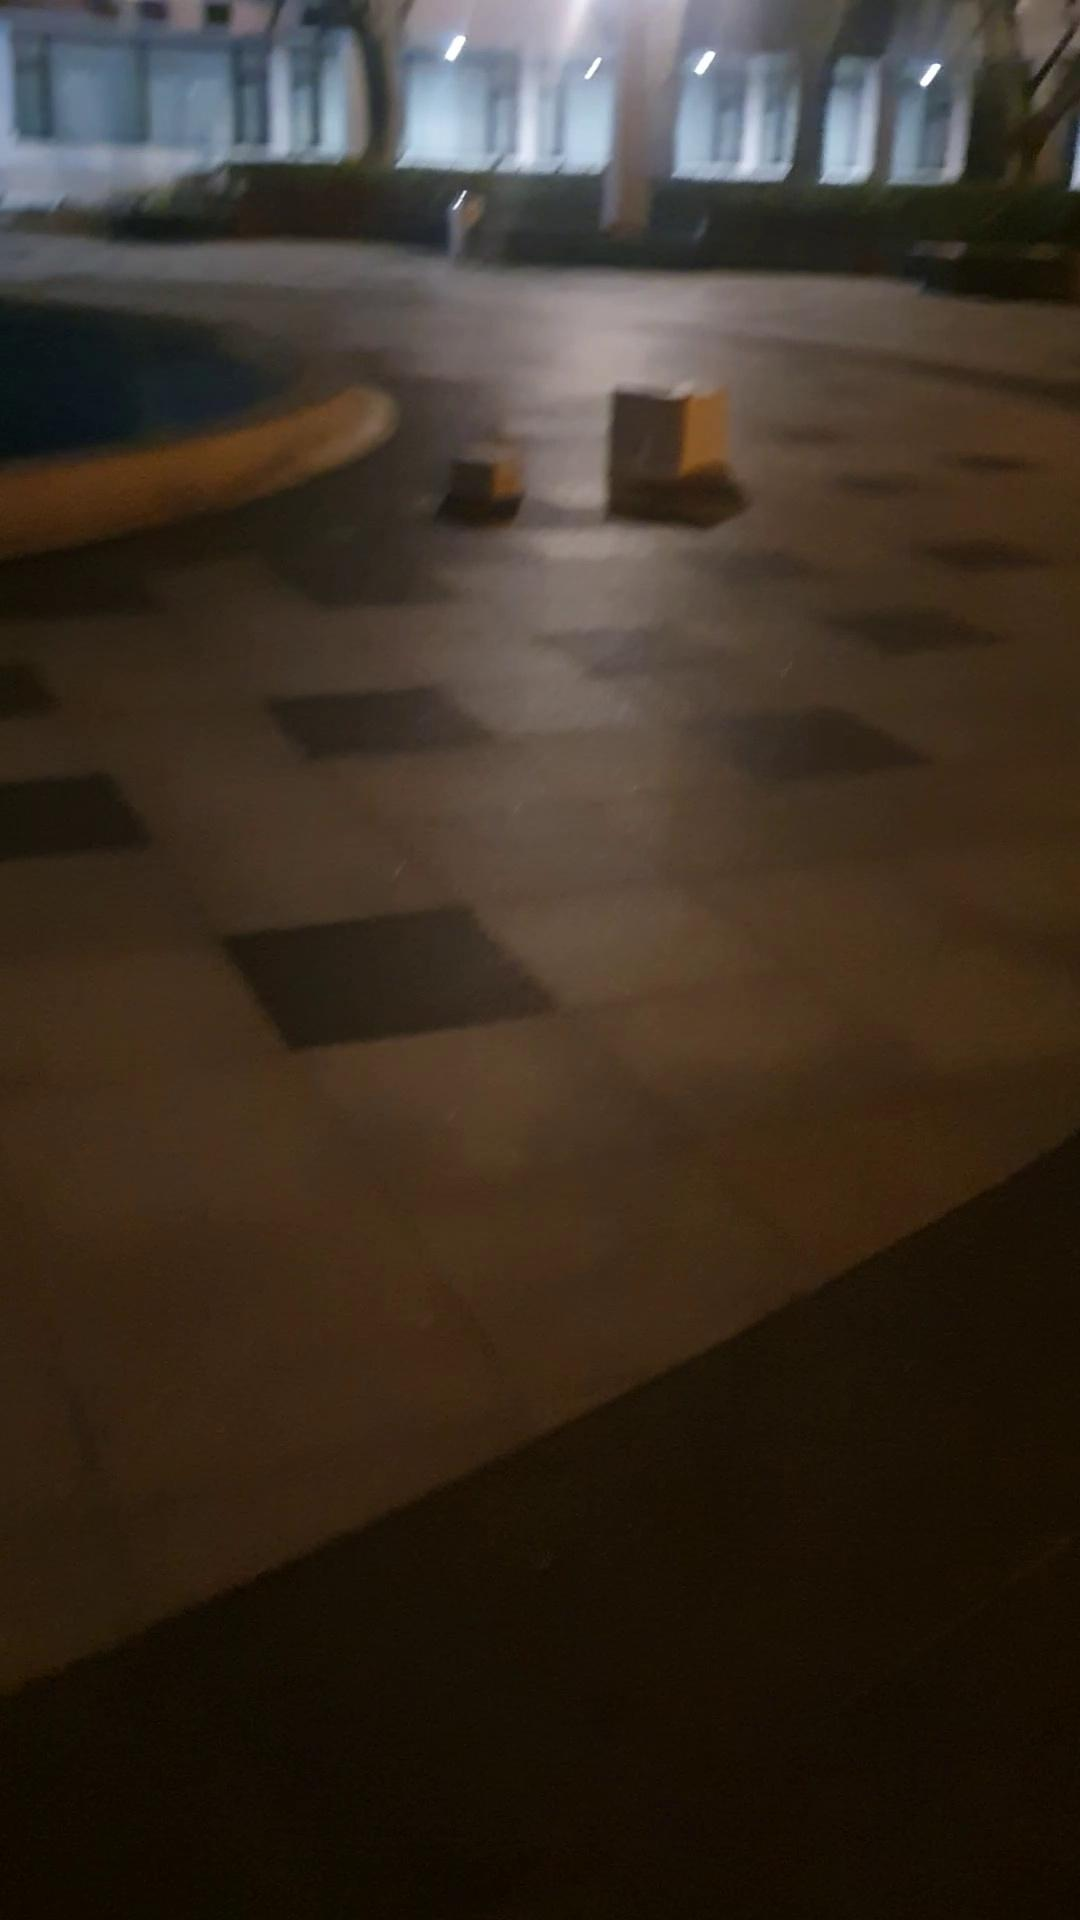Box: (603, 368, 723, 491), (443, 440, 541, 516)
